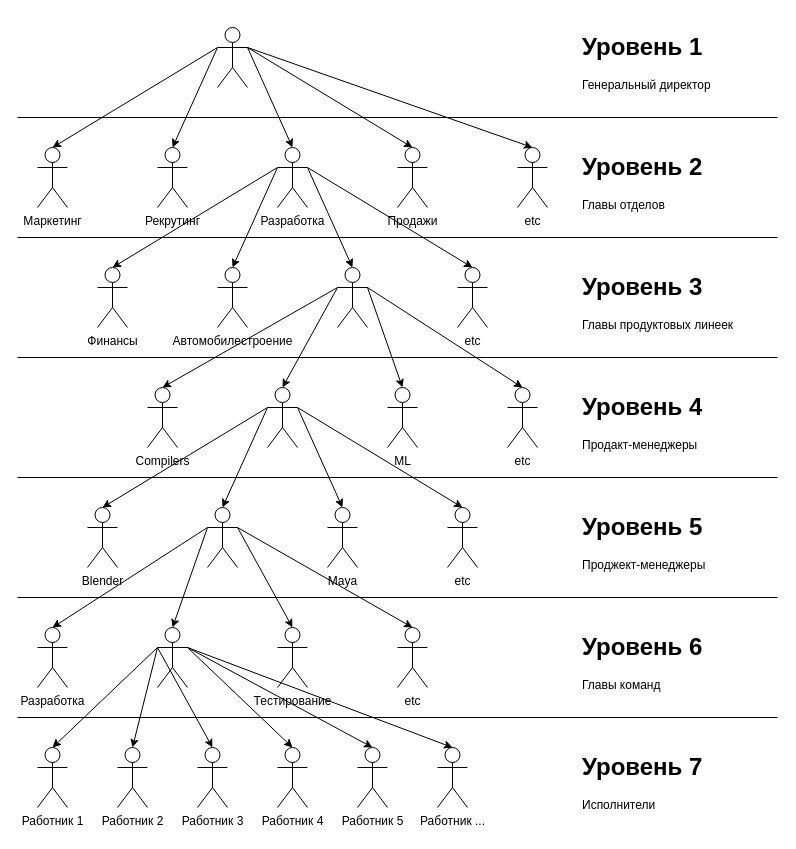
Image size: 796x849. Some labels were removed from this diagram. The centre of each missing label's shape, as x and y in pixels:
"CEO" goes at [232,57].
"CI/CD" goes at [172,657].
"Engines" goes at [282,417].
"Web" goes at [222,537].
"Графика" goes at [352,297].
